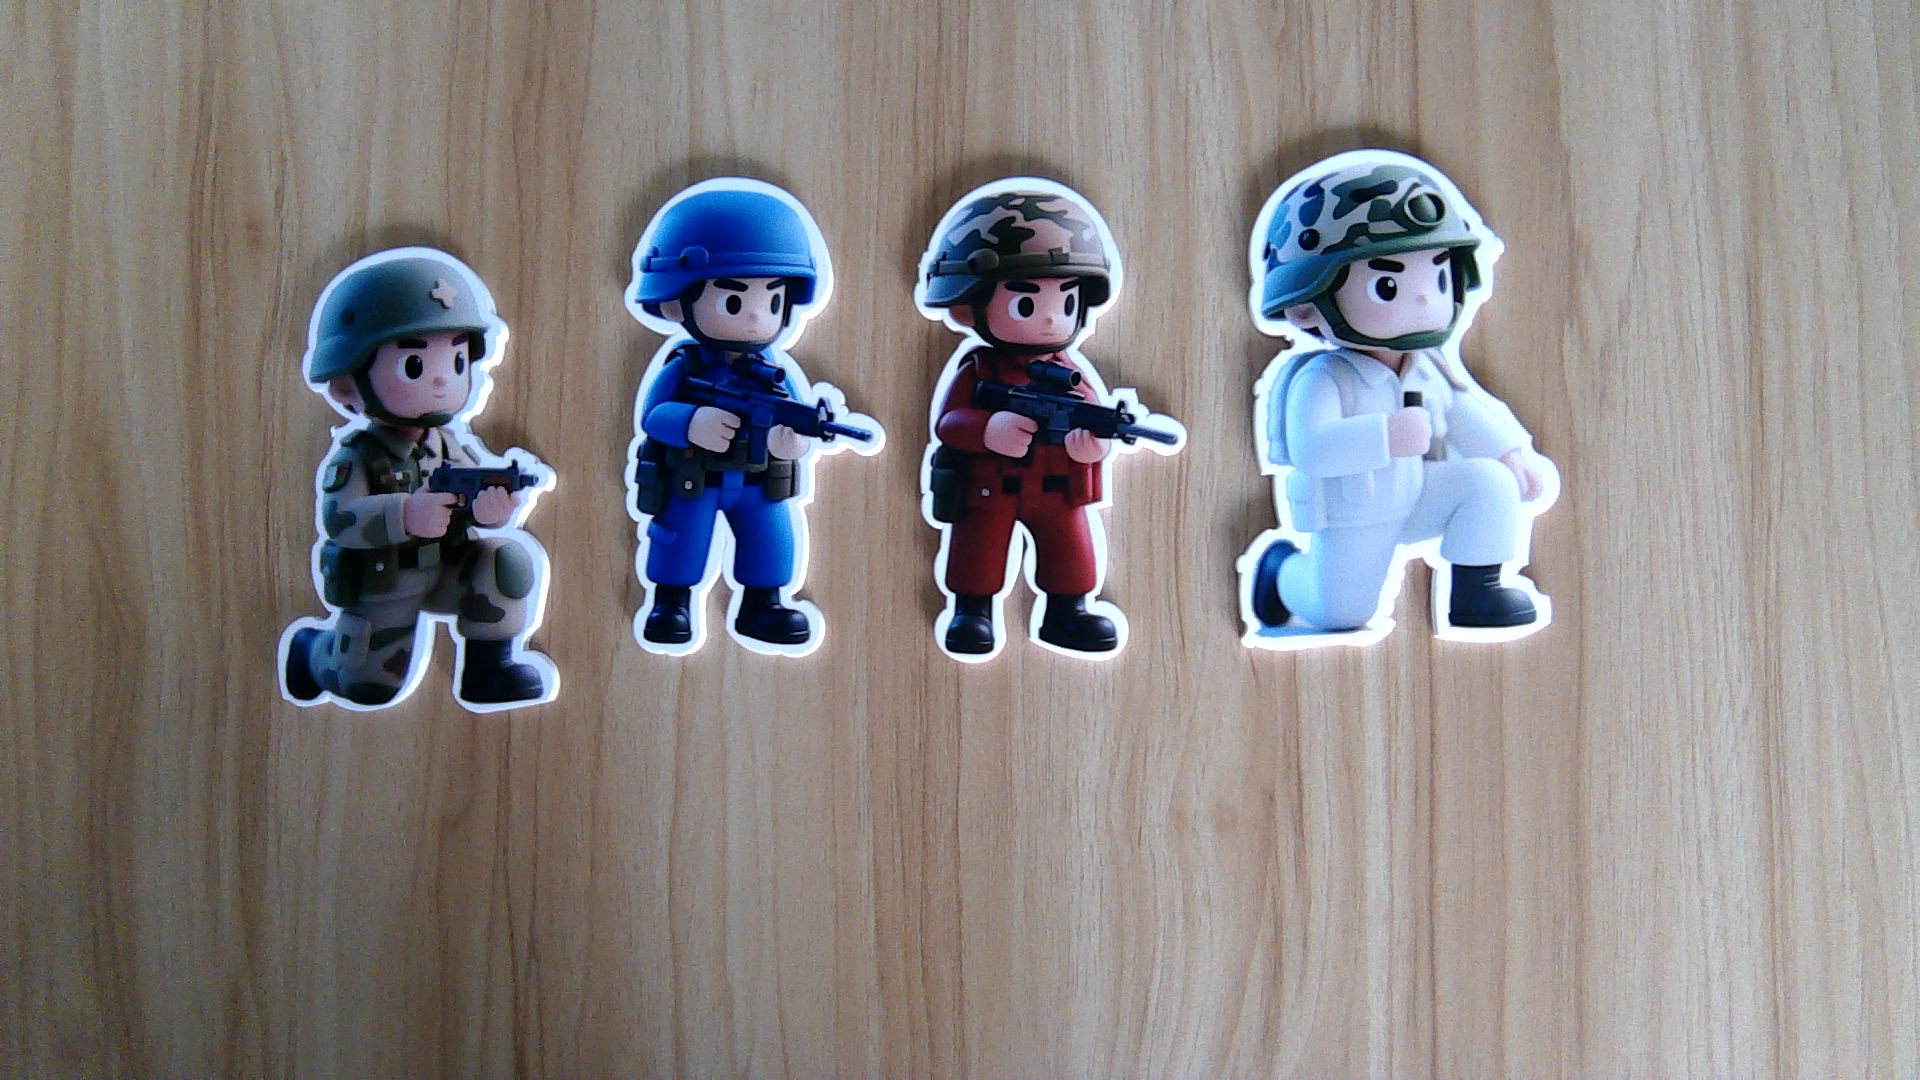人质: (1232, 351, 1563, 657)
友军: (266, 423, 568, 720)
敌人1: (911, 345, 1189, 666)
敌人2: (611, 342, 887, 663)
